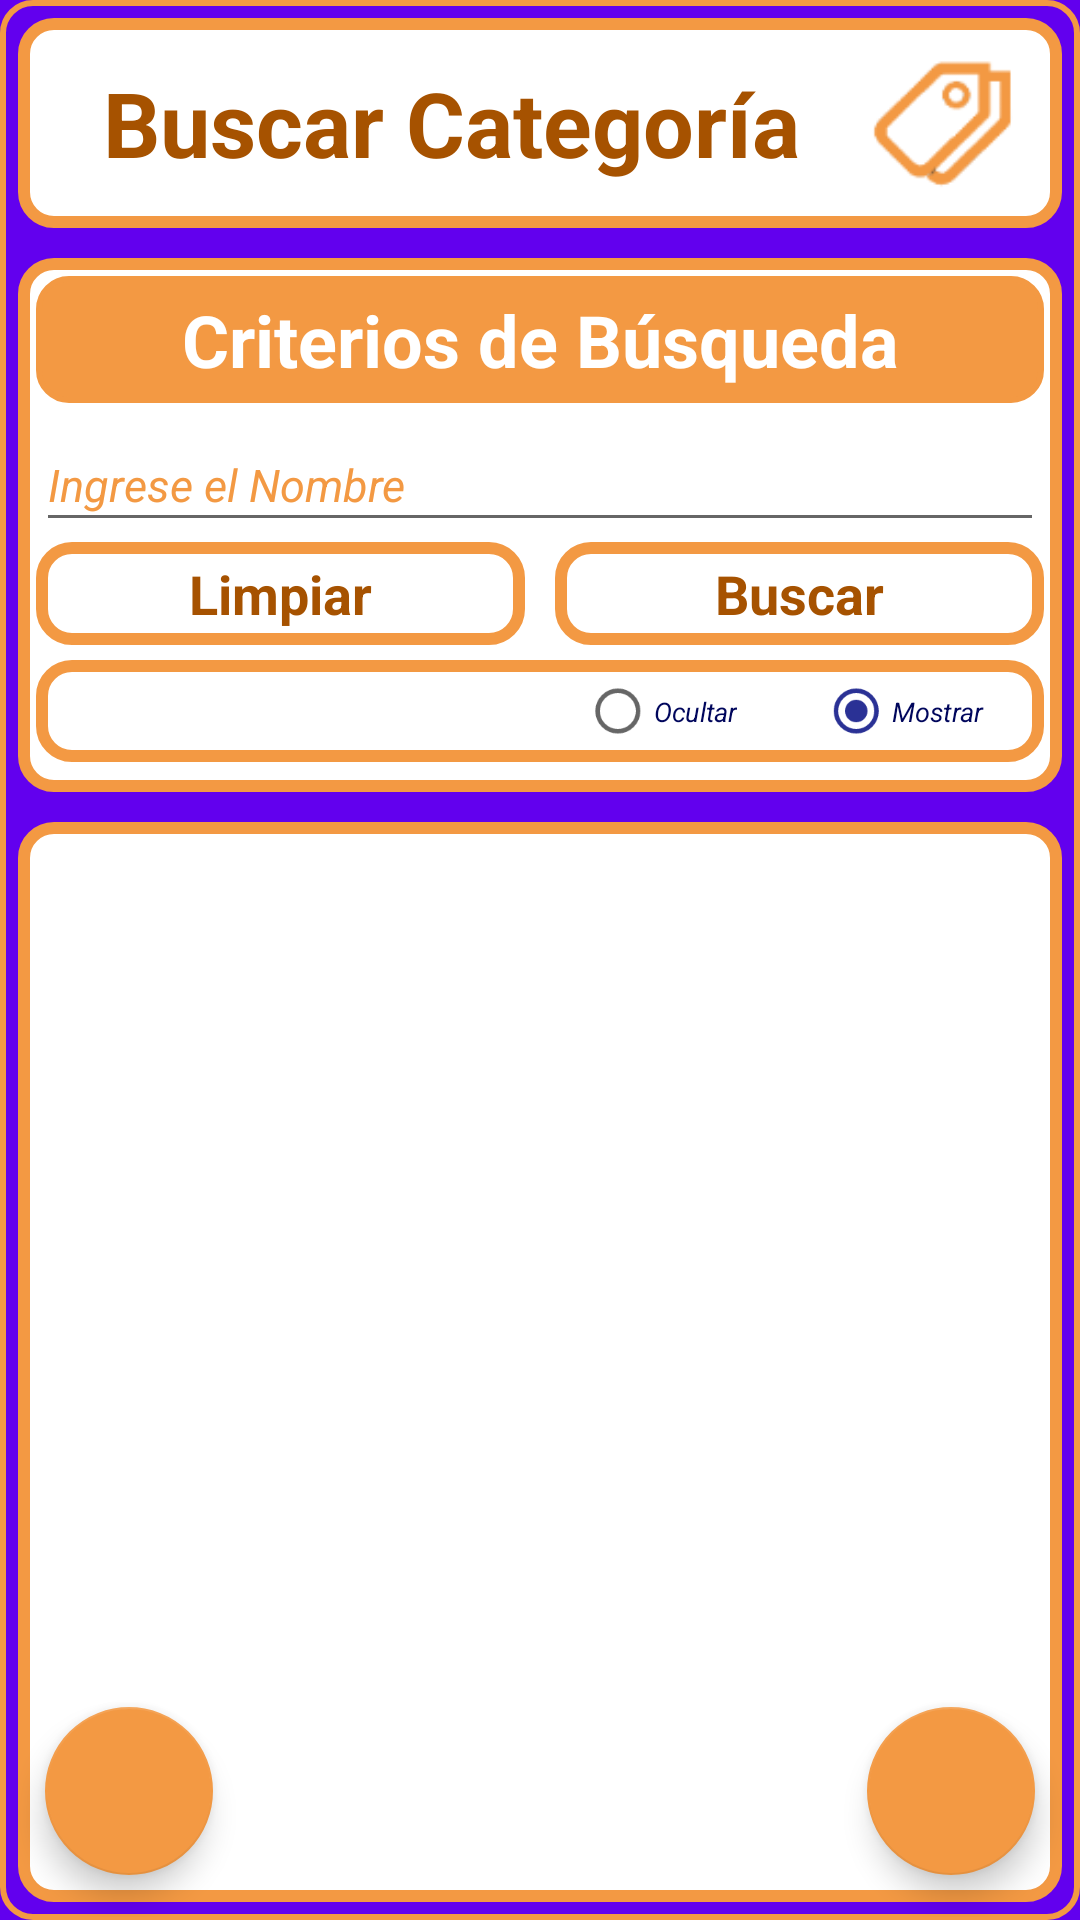

Icon bounding boxes for this 1080w x 1920h phone screenshot, format (left=x1, top=y1, right=x2, bottom=y2):
categoria sf: (left=874, top=61, right=1011, bottom=186)
